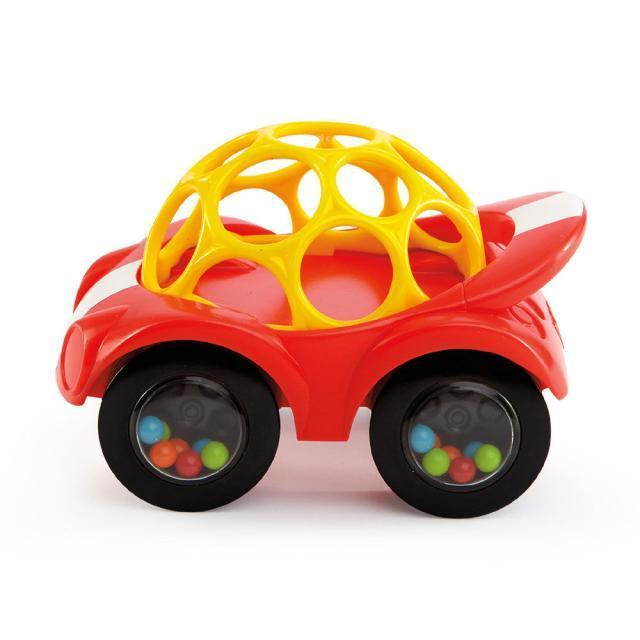hard-toy: (58, 122, 586, 516)
